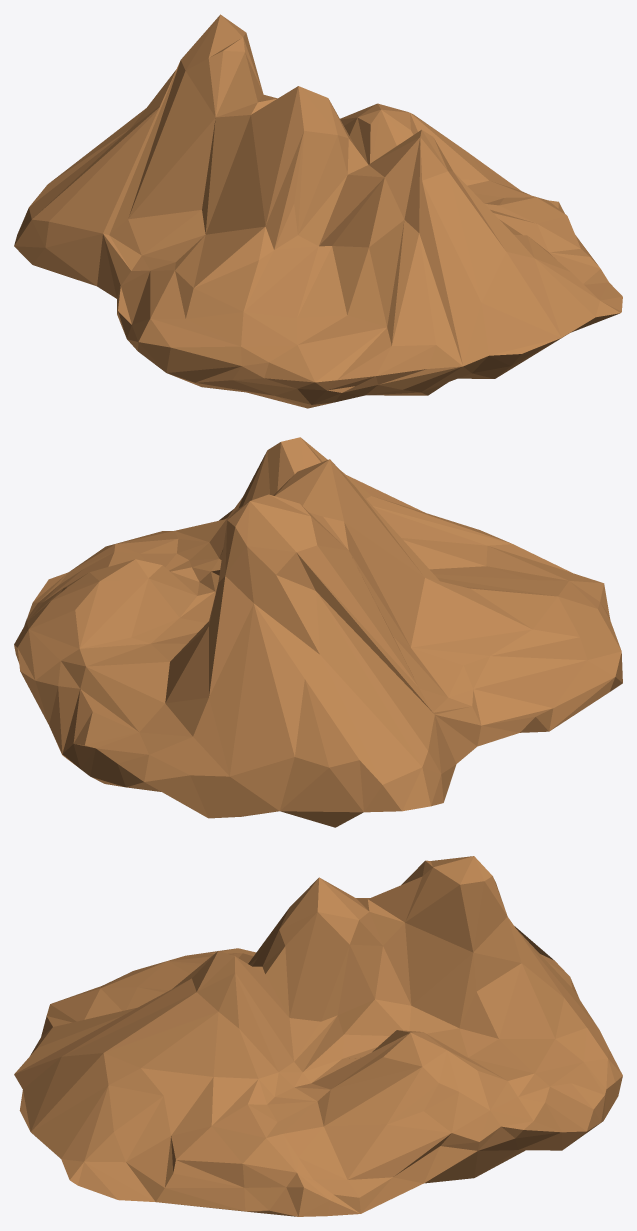
Rendered from RockSand_05.glb.
3 renders of one model, top to bottom at view 1: azimuth 30°, elevation 25°; view 2: azimuth 150°, elevation 25°; view 3: azimuth 270°, elevation 25°, orthographic. The views are drawn at different scales.
Parts seen in each view (by area): view 1: RockSand_05; view 2: RockSand_05; view 3: RockSand_05.
Part boxes in pixels (x1,y1,x2,y2): RockSand_05: (14,14,622,408); RockSand_05: (14,437,622,827); RockSand_05: (14,856,622,1216).
Size of what is drawn, in the model's own units: 9.23 by 4.6 by 9.93.
Materials: 1 (1 with a texture image).
